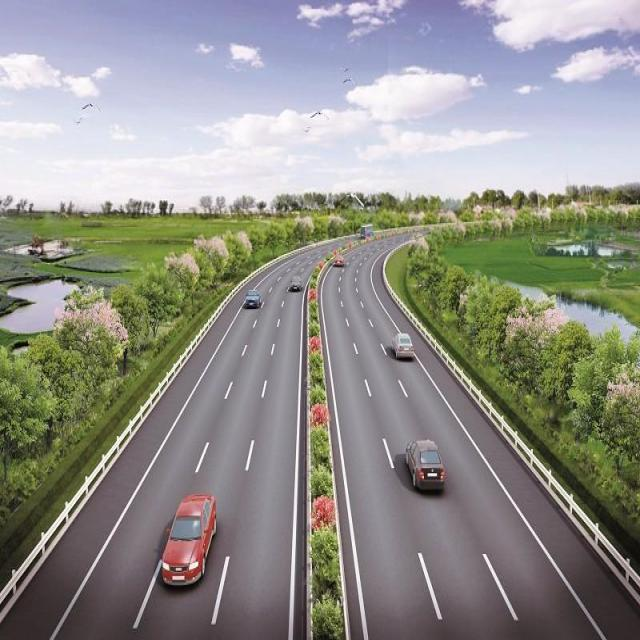point: (370, 203, 434, 269)
